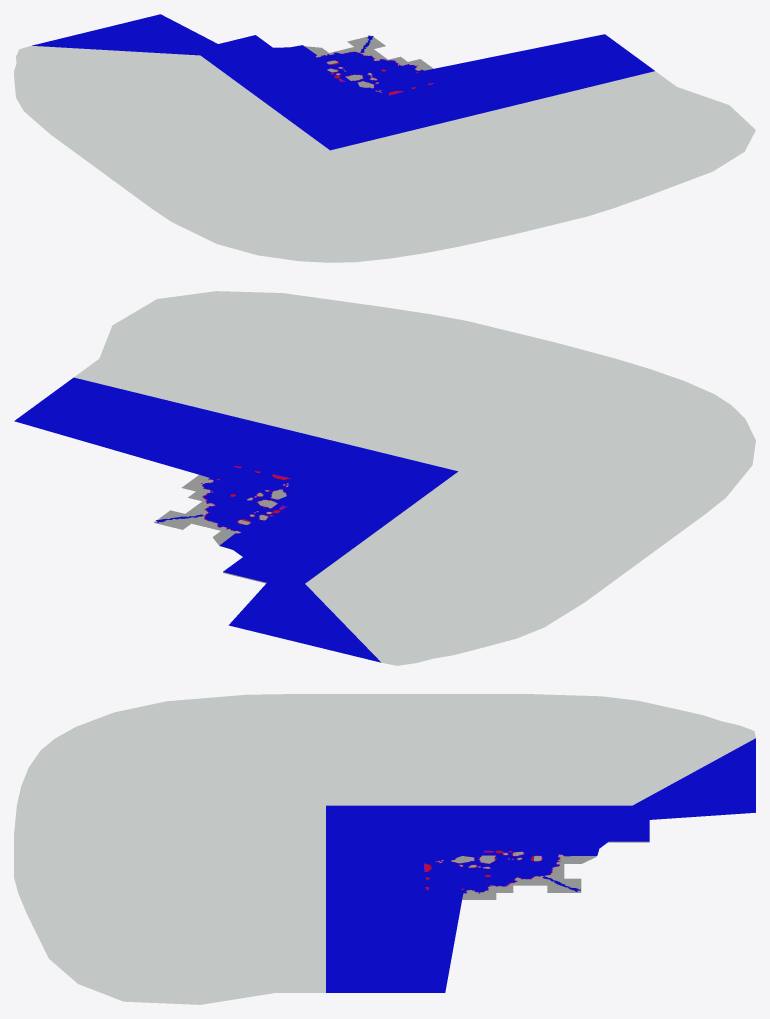
3 renders of one model, top to bottom at view 1: azimuth 30°, elevation 25°; view 2: azimuth 150°, elevation 25°; view 3: azimuth 270°, elevation 25°, orthographic. The views are drawn at different scales.
Parts seen in each view (by area): view 1: G:\FFXIV-MapTools\exports\s1f1\bg\ffxiv\sea_s1\fld\s1f1\bgpa (×3); view 2: G:\FFXIV-MapTools\exports\s1f1\bg\ffxiv\sea_s1\fld\s1f1\bgpa (×3); view 3: G:\FFXIV-MapTools\exports\s1f1\bg\ffxiv\sea_s1\fld\s1f1\bgpa (×3).
Part boxes in pixels (left/top/right/bottom): G:\FFXIV-MapTools\exports\s1f1\bg\ffxiv\sea_s1\fld\s1f1\bgpa (×3): left=14, top=14, right=755, bottom=262; G:\FFXIV-MapTools\exports\s1f1\bg\ffxiv\sea_s1\fld\s1f1\bgpa (×3): left=14, top=291, right=755, bottom=665; G:\FFXIV-MapTools\exports\s1f1\bg\ffxiv\sea_s1\fld\s1f1\bgpa (×3): left=14, top=694, right=755, bottom=1004.
Size of the model in its own units: 5530 by 8.8 by 5578.
